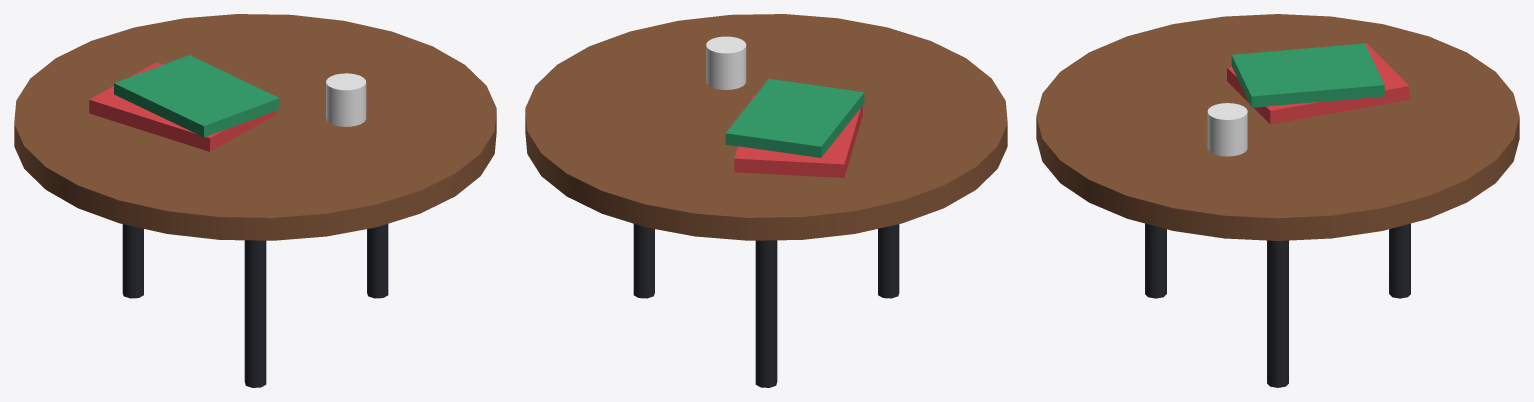
Rendered from coffee_table.glb.
3 renders of one model, left to right at view 1: azimuth 30°, elevation 25°; view 2: azimuth 150°, elevation 25°; view 3: azimuth 270°, elevation 25°, orthographic.
Parts seen in each view (by area): view 1: CoffeeTable; view 2: CoffeeTable; view 3: CoffeeTable.
Part boxes in pixels (x1,y1,x2,y2): CoffeeTable: (14, 14, 496, 387); CoffeeTable: (525, 14, 1007, 387); CoffeeTable: (1036, 14, 1519, 387).
Size of the model in its own units: 0.96 by 0.535 by 0.96.
